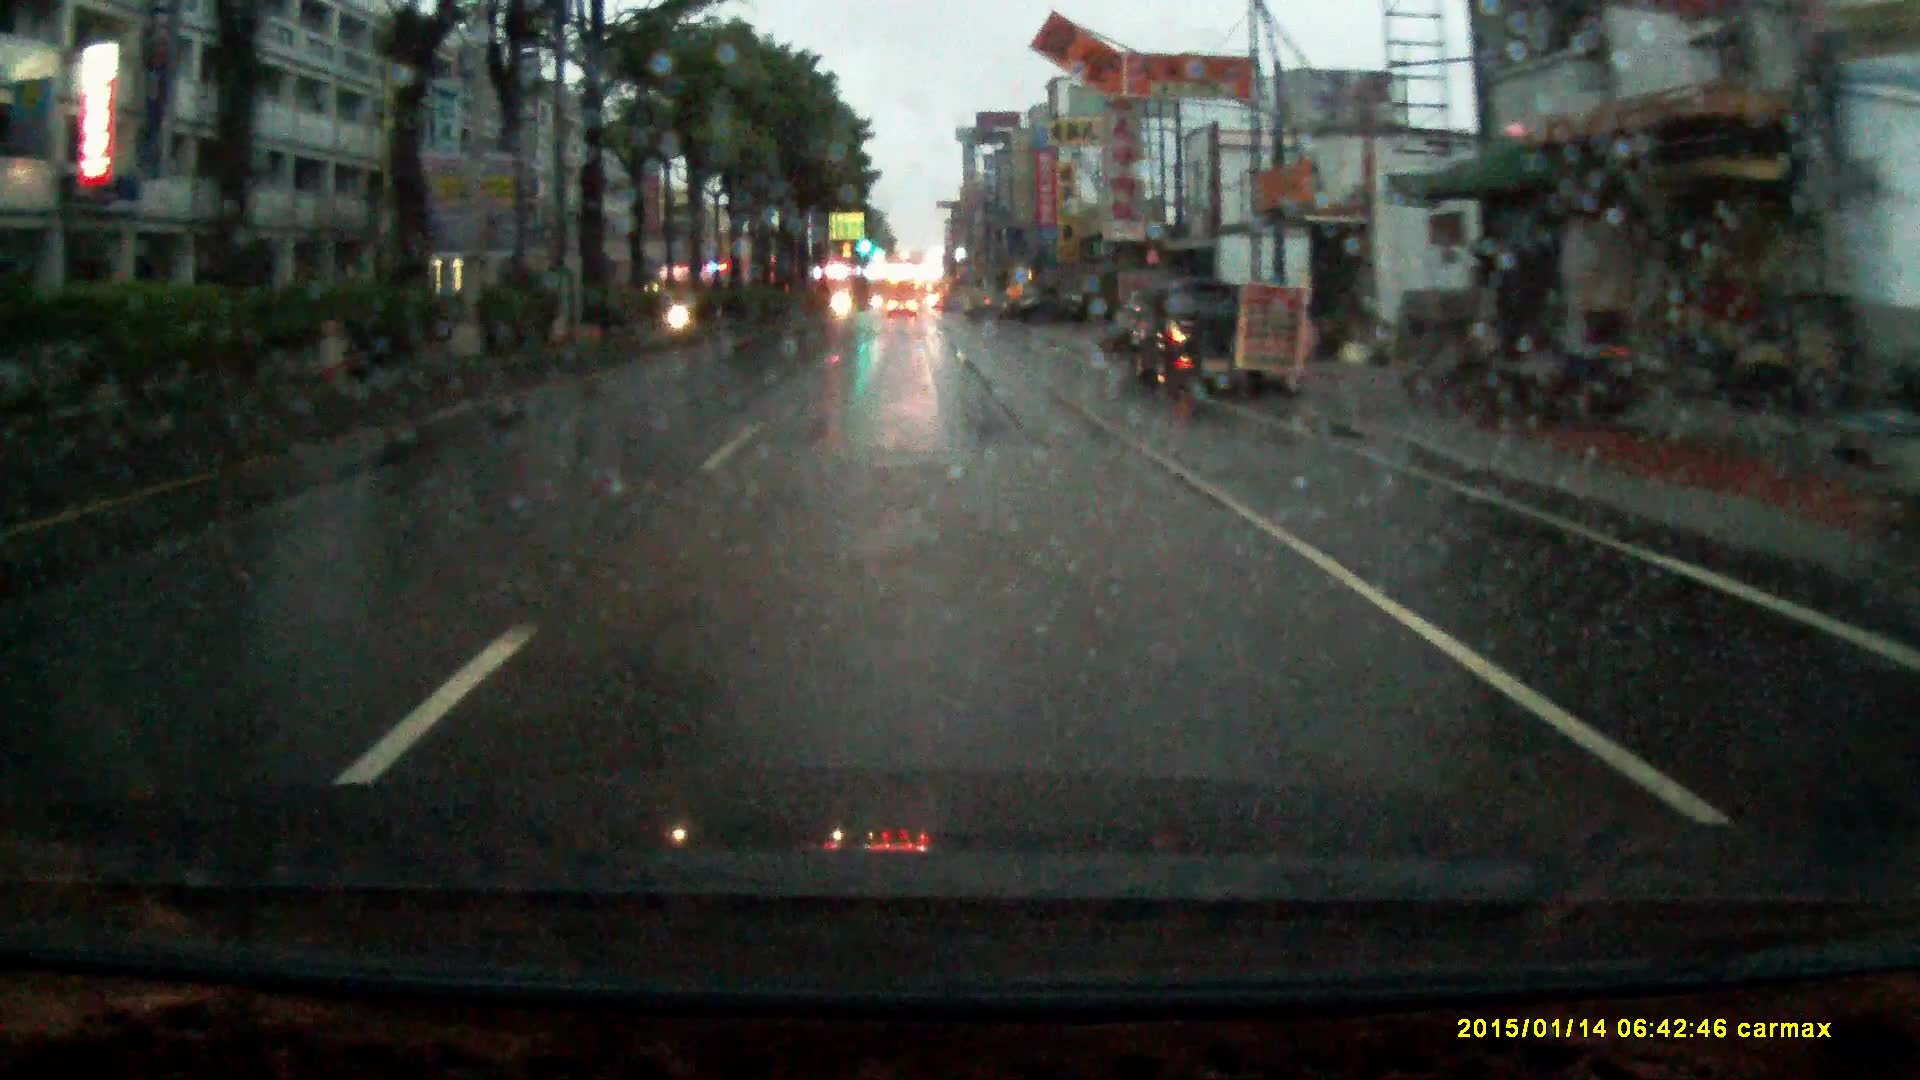vehicle: (1118, 273, 1280, 393), (887, 291, 919, 316)
